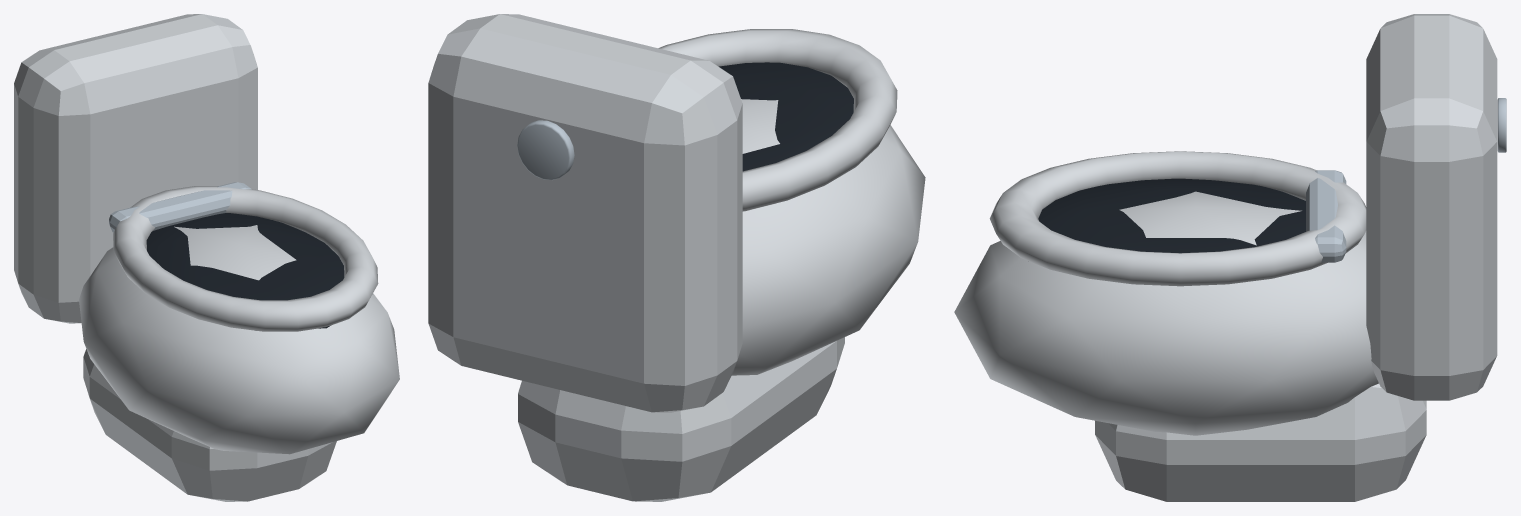
The model's file is modern-toilet.glb.
3 views of the same model, side by side, from view 1: azimuth 30°, elevation 25°; view 2: azimuth 150°, elevation 25°; view 3: azimuth 270°, elevation 25° (orthographic). The views are drawn at different scales.
Visible parts, largest first — view 1: toilet · Warm white, toilet · Soft black, toilet · Brushed aluminum; view 2: toilet · Warm white, toilet · Soft black, toilet · Brushed aluminum; view 3: toilet · Warm white, toilet · Soft black, toilet · Brushed aluminum.
Boxes of the visible parts, bbox=[...] form: toilet · Warm white: bbox=[14, 14, 399, 501]; toilet · Soft black: bbox=[146, 213, 344, 328]; toilet · Brushed aluminum: bbox=[109, 182, 251, 232]; toilet · Warm white: bbox=[428, 14, 925, 501]; toilet · Soft black: bbox=[719, 62, 853, 171]; toilet · Brushed aluminum: bbox=[517, 120, 574, 180]; toilet · Warm white: bbox=[954, 14, 1497, 501]; toilet · Soft black: bbox=[1038, 178, 1305, 253]; toilet · Brushed aluminum: bbox=[1306, 98, 1506, 262].
Bounding box in the file's own units: 0.6467 × 0.94 × 1.1.
